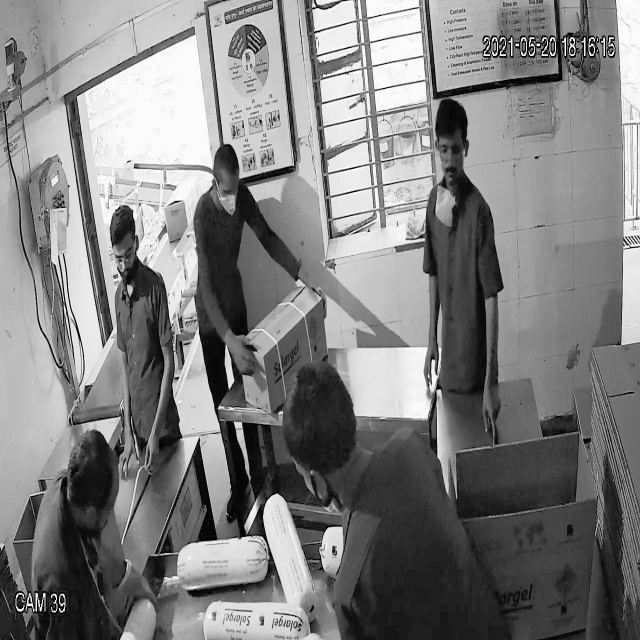Gafas: (434, 132, 475, 167), (105, 243, 141, 271)
